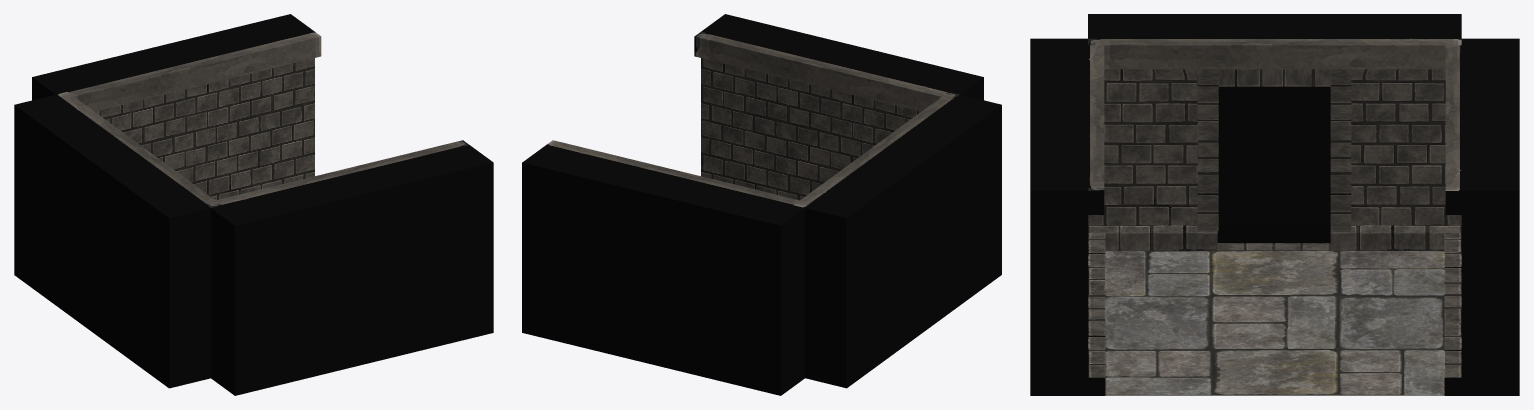
Rendered from ModularDoorway02.fbx.
3 renders of one model, left to right at view 1: azimuth 30°, elevation 25°; view 2: azimuth 150°, elevation 25°; view 3: azimuth 270°, elevation 25°, orthographic. The views are drawn at different scales.
Parts seen in each view (by area): view 1: Plane, Plane.002; view 2: Plane, Plane.002; view 3: Plane.002, Plane, Plane.001.
Boxes of the visible parts, x1,y1,x2,y2 form: Plane: [32, 14, 493, 395]; Plane.002: [14, 92, 222, 388]; Plane: [522, 14, 983, 395]; Plane.002: [794, 91, 1001, 388]; Plane.002: [1088, 14, 1461, 250]; Plane: [1030, 38, 1519, 395]; Plane.001: [1105, 250, 1444, 395].
Bounding box in the file's own units: 3.7 × 2 × 4.32.
3 materials, 3 textured.
